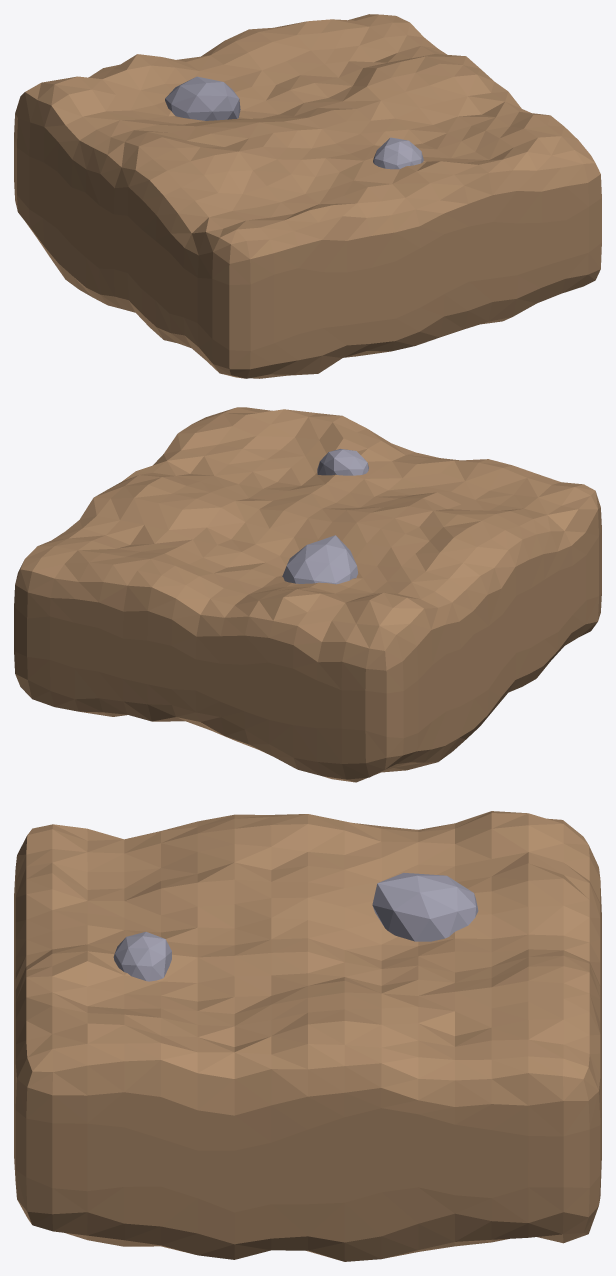
Rendered from dirt2.glb.
3 renders of one model, top to bottom at view 1: azimuth 30°, elevation 25°; view 2: azimuth 150°, elevation 25°; view 3: azimuth 270°, elevation 25°, orthographic. The views are drawn at different scales.
Visible parts, largest first — view 1: Cube, Icosphere, Icosphere.002; view 2: Cube, Icosphere, Icosphere.002; view 3: Cube, Icosphere, Icosphere.002.
Part boxes in pixels (left/top/right/bottom): Cube: left=14, top=14, right=601, bottom=378; Icosphere: left=165, top=76, right=240, bottom=120; Icosphere.002: left=373, top=137, right=423, bottom=169; Cube: left=14, top=407, right=601, bottom=782; Icosphere: left=282, top=535, right=357, bottom=584; Icosphere.002: left=317, top=448, right=368, bottom=475; Cube: left=14, top=811, right=601, bottom=1261; Icosphere: left=372, top=873, right=478, bottom=941; Icosphere.002: left=113, top=932, right=171, bottom=981.
Bounding box in the file's own units: 2 × 0.9311 × 2.
